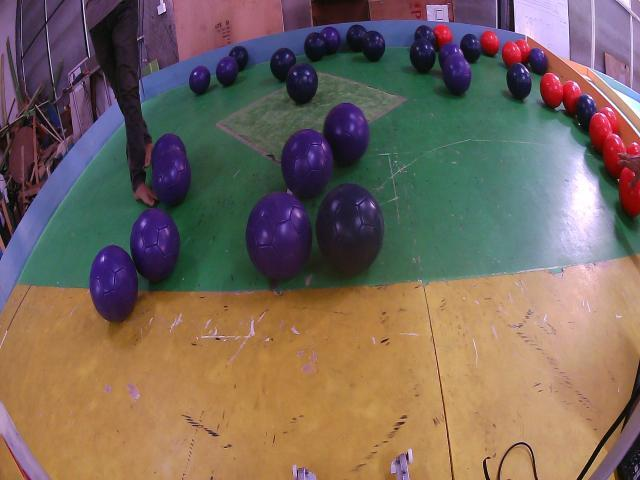jambhalya: (246, 192, 312, 280), (130, 208, 180, 282), (90, 245, 138, 322), (281, 128, 332, 198), (324, 103, 370, 166), (151, 148, 191, 207), (442, 53, 471, 95), (151, 133, 186, 166), (216, 57, 239, 87), (439, 42, 464, 68), (189, 65, 210, 93), (321, 27, 341, 54), (529, 47, 548, 75)
kaalyya: (316, 183, 385, 275), (286, 62, 318, 103), (506, 63, 531, 100), (270, 47, 296, 82), (410, 38, 436, 73), (576, 93, 598, 130), (361, 30, 385, 62), (304, 32, 326, 62), (460, 33, 481, 63), (346, 25, 366, 52), (229, 45, 249, 71), (415, 25, 436, 48)
